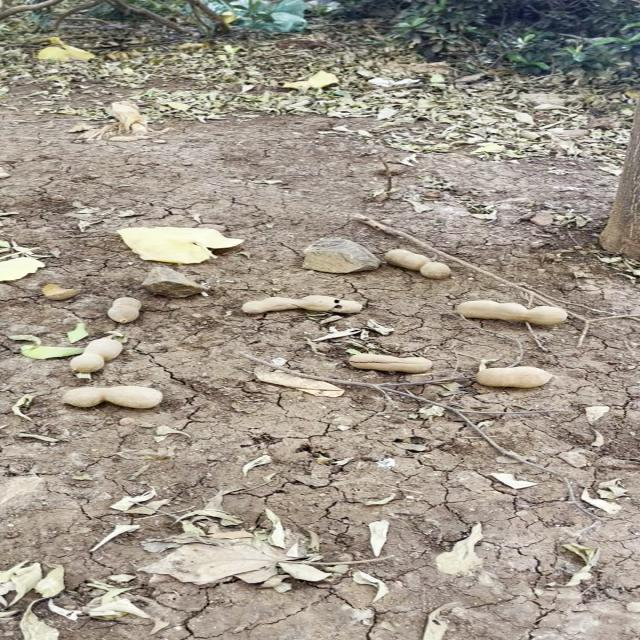tamarind: (447, 299, 565, 323), (230, 295, 364, 313), (378, 246, 455, 276), (471, 362, 557, 388), (55, 387, 159, 408), (66, 336, 122, 374), (339, 349, 428, 372), (110, 296, 142, 322)
